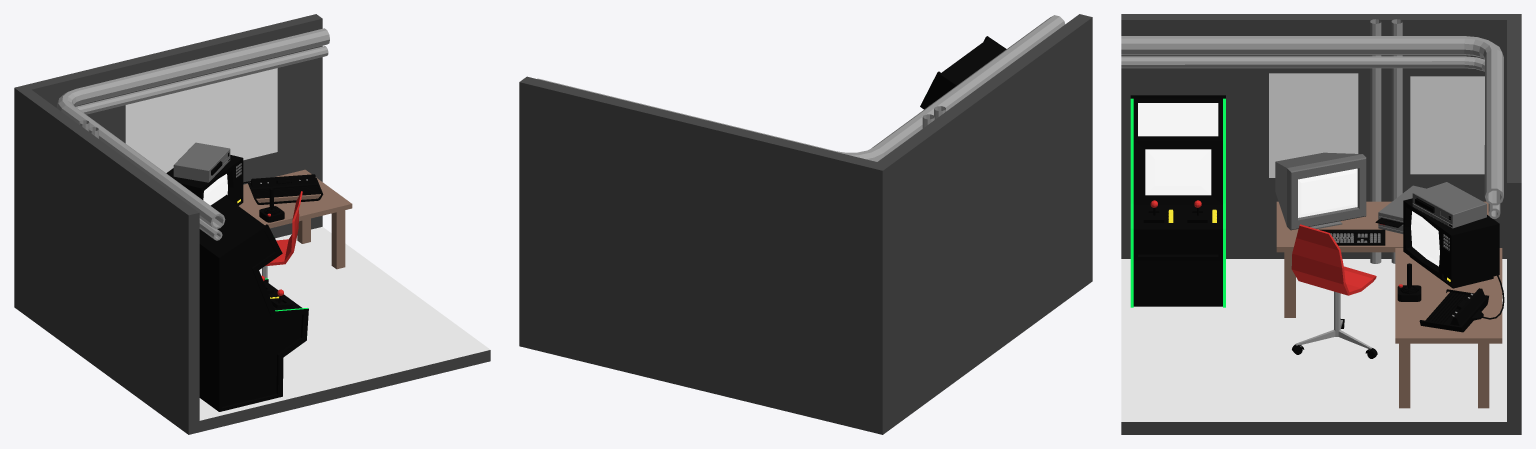
Rendered from gameroom.gltf.
The picture shows the model from 3 angles, left to right: view 1: azimuth 30°, elevation 25°; view 2: azimuth 150°, elevation 25°; view 3: azimuth 270°, elevation 25°; orthographic projection. The views are drawn at different scales.
Visible parts, largest first — view 1: Room, Jatekgep, 80s-Retro-Sci-Fi-FPoster-and-lyer-Templates-for-Adobe-Photos, pipestop, Table, VHS, Labak, Plane.010, Plane.001, Plane, Plane.003, TV (+1 smaller); view 2: Room, pipestop, Jatekgep; view 3: Room, Jatekgep, pipestop, space-sluts-vintage-sci-fi-comic-book-cover-long-shot, robotlegion, Monitor, Table, Arcade game machine, Plane, TV, Table.002, Plane.010 (+11 smaller).
Boxes of the visible parts, x1,y1,x2,y2 form: Room: [14, 14, 490, 434]; Jatekgep: [199, 194, 308, 411]; 80s-Retro-Sci-Fi-FPoster-and-lyer-Templates-for-Adobe-Photos: [125, 68, 277, 172]; pipestop: [56, 28, 329, 240]; Table: [239, 169, 352, 228]; VHS: [173, 142, 229, 182]; Labak: [297, 210, 345, 269]; Plane.010: [201, 164, 234, 205]; Plane.001: [248, 174, 323, 204]; Plane: [265, 191, 302, 265]; Plane.003: [253, 186, 320, 199]; TV: [166, 155, 242, 198]; Room: [519, 14, 1092, 434]; pipestop: [537, 15, 1065, 161]; Jatekgep: [920, 36, 1006, 109]; Room: [1121, 14, 1521, 434]; Jatekgep: [1130, 95, 1225, 307]; pipestop: [1121, 36, 1503, 218]; space-sluts-vintage-sci-fi-comic-book-cover-long-shot: [1269, 73, 1358, 177]; robotlegion: [1410, 76, 1484, 174]; Monitor: [1275, 152, 1366, 230]; Table: [1395, 248, 1502, 343]; Arcade game machine: [1370, 19, 1402, 263]; Plane: [1291, 224, 1376, 295]; TV: [1403, 198, 1499, 288]; Table.002: [1276, 201, 1488, 252]; Plane.010: [1403, 201, 1441, 278].
Bounding box in the file's own units: 8.3 × 5.8 × 8.3.
